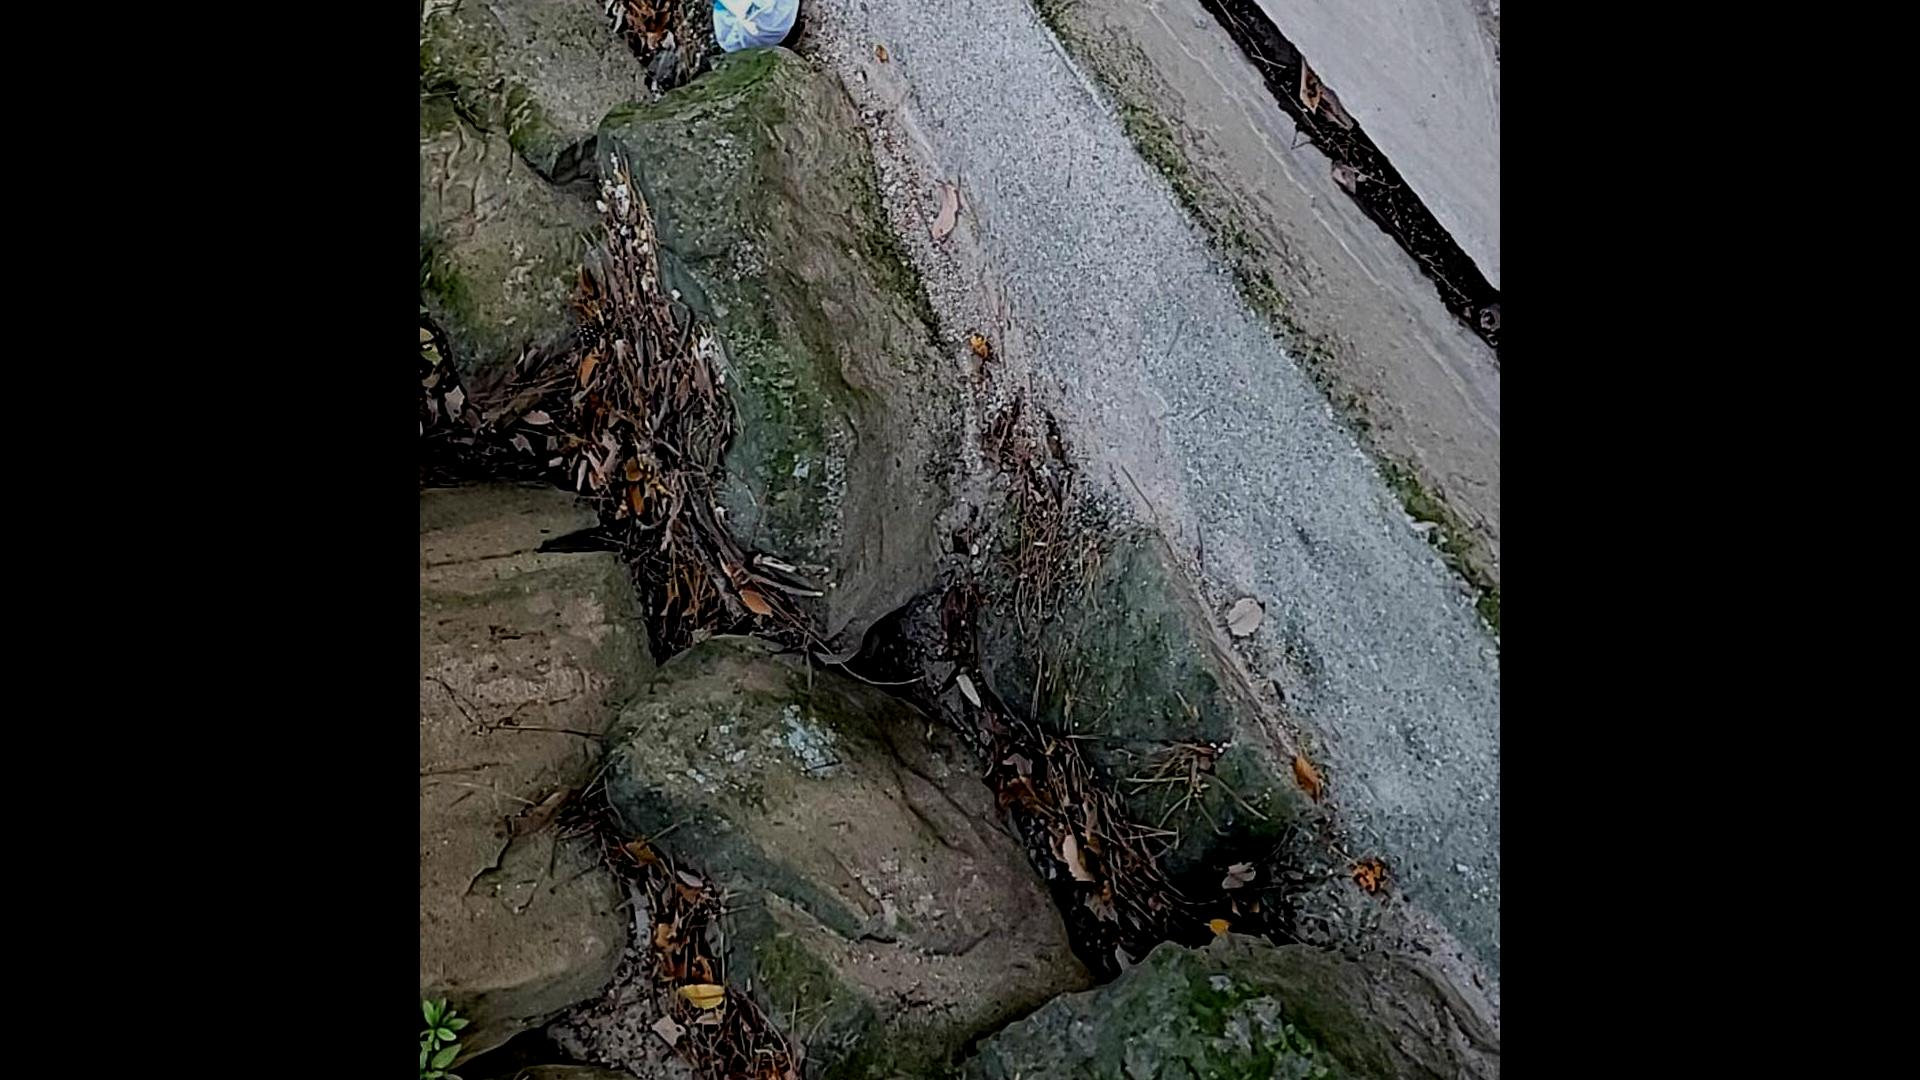white_bag: (703, 0, 814, 66)
